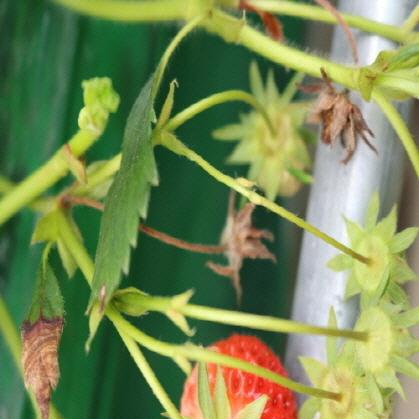Gray Mold: (197, 188, 275, 303), (294, 67, 381, 165)
